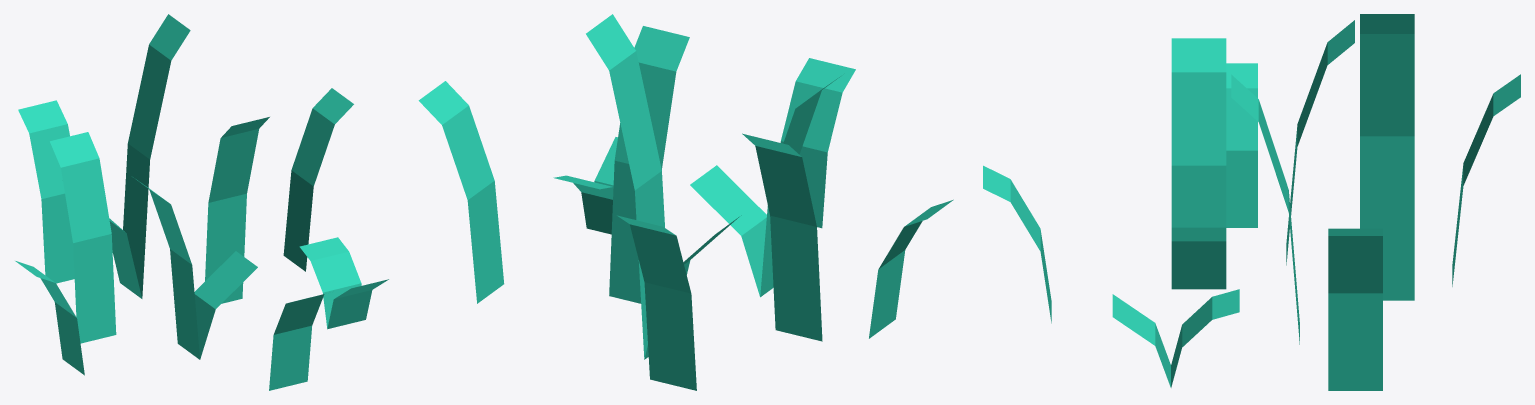
Rendered from grass.dae.
3 views of the same model, side by side, from view 1: azimuth 30°, elevation 25°; view 2: azimuth 150°, elevation 25°; view 3: azimuth 270°, elevation 25° (orthographic). The views are drawn at different scales.
Visible parts, largest first — view 1: grass; view 2: grass; view 3: grass.
Boxes of the visible parts, x1=… form: grass: x1=15, y1=14, x2=388, y2=390; grass: x1=418, y1=14, x2=953, y2=390; grass: x1=983, y1=14, x2=1520, y2=390.
Size of the model in its own units: 0.3811 by 0.254 by 0.3922.
